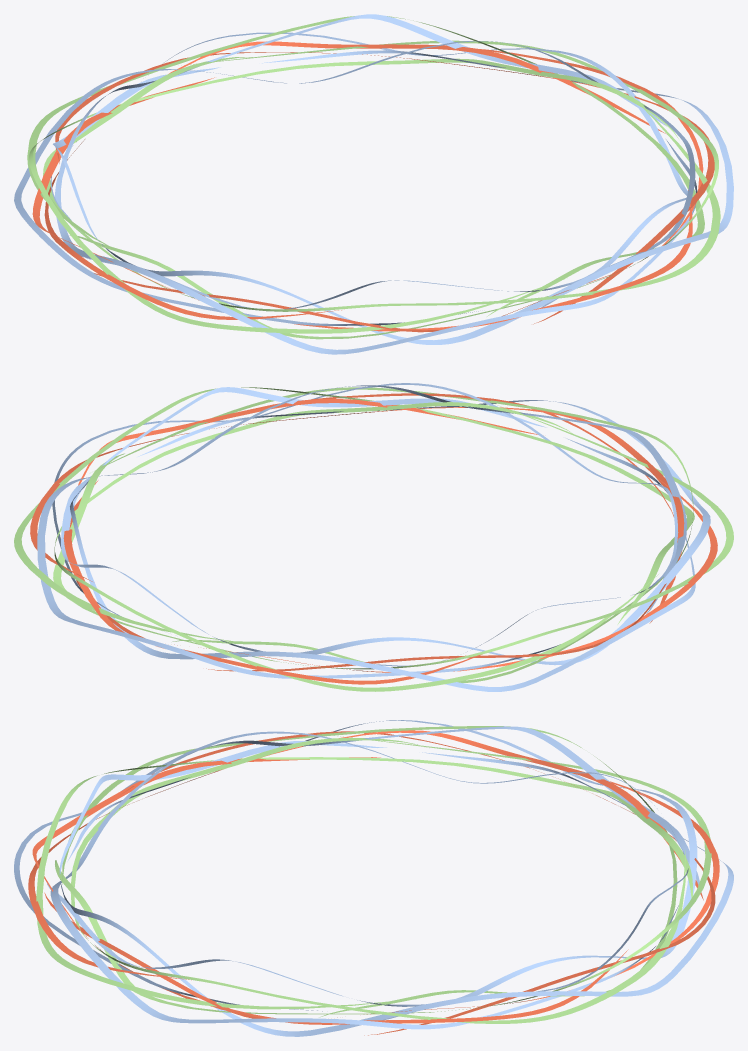
File: ring6.fbx
3 renders of one model, top to bottom at view 1: azimuth 30°, elevation 25°; view 2: azimuth 150°, elevation 25°; view 3: azimuth 270°, elevation 25°, orthographic. The views are drawn at different scales.
Parts seen in each view (by area): view 1: ring6; view 2: ring6; view 3: ring6.
Part boxes in pixels (left/top/right/bottom): ring6: left=14, top=14, right=733, bottom=354; ring6: left=14, top=383, right=733, bottom=691; ring6: left=14, top=720, right=733, bottom=1036.
Size of the model in its own units: 117 by 11.76 by 117.
